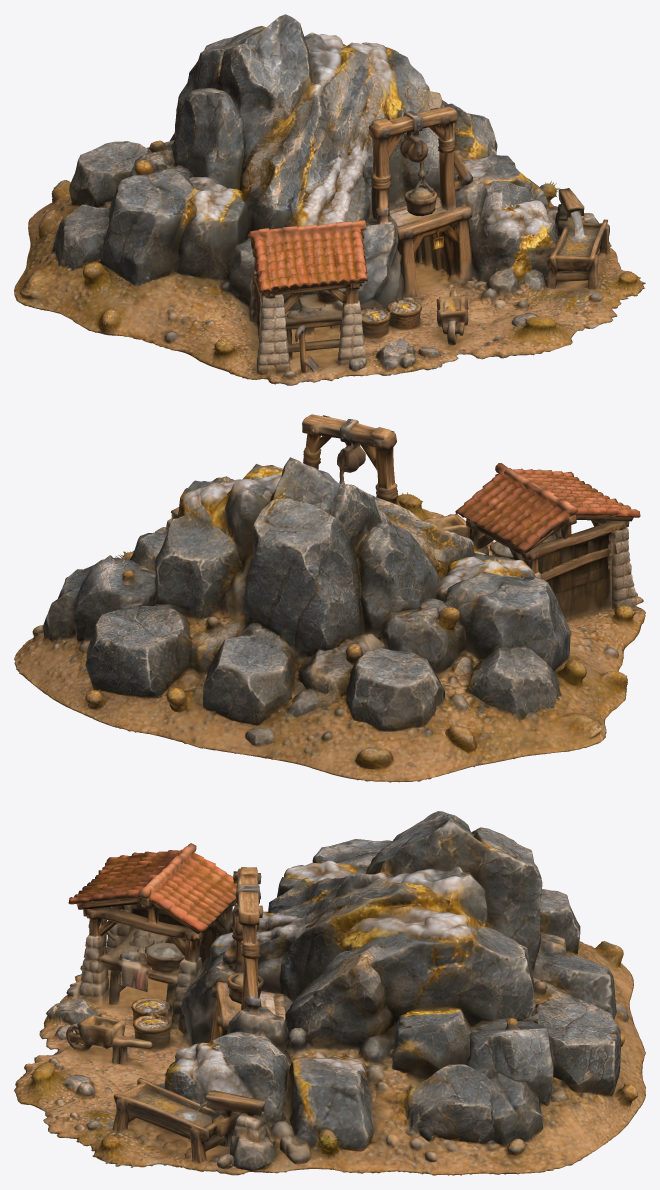
Rendered from SM_MinaOro.fbx.
The picture shows the model from 3 angles, top to bottom: view 1: azimuth 30°, elevation 25°; view 2: azimuth 150°, elevation 25°; view 3: azimuth 270°, elevation 25°; orthographic projection. The views are drawn at different scales.
Parts seen in each view (by area): view 1: SM_MinaOro; view 2: SM_MinaOro; view 3: SM_MinaOro.
Part boxes in pixels (box(x1,y1,x2,y2)): SM_MinaOro: box(14, 14, 645, 385); SM_MinaOro: box(14, 414, 645, 782); SM_MinaOro: box(14, 811, 645, 1175).
Size of the model in its own units: 100 by 39.94 by 97.32.
Materials: 1 (1 with a texture image).
